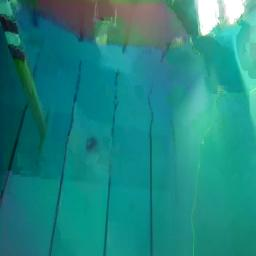Full: (86, 138, 99, 150)
